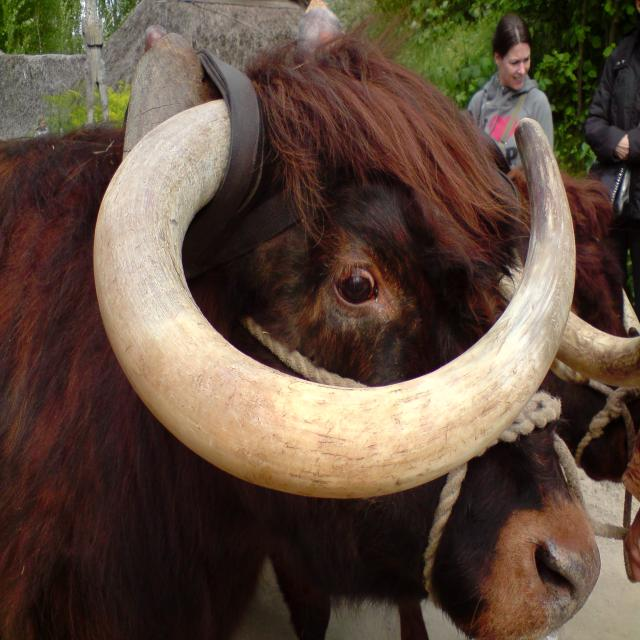cow: (0, 35, 621, 638)
